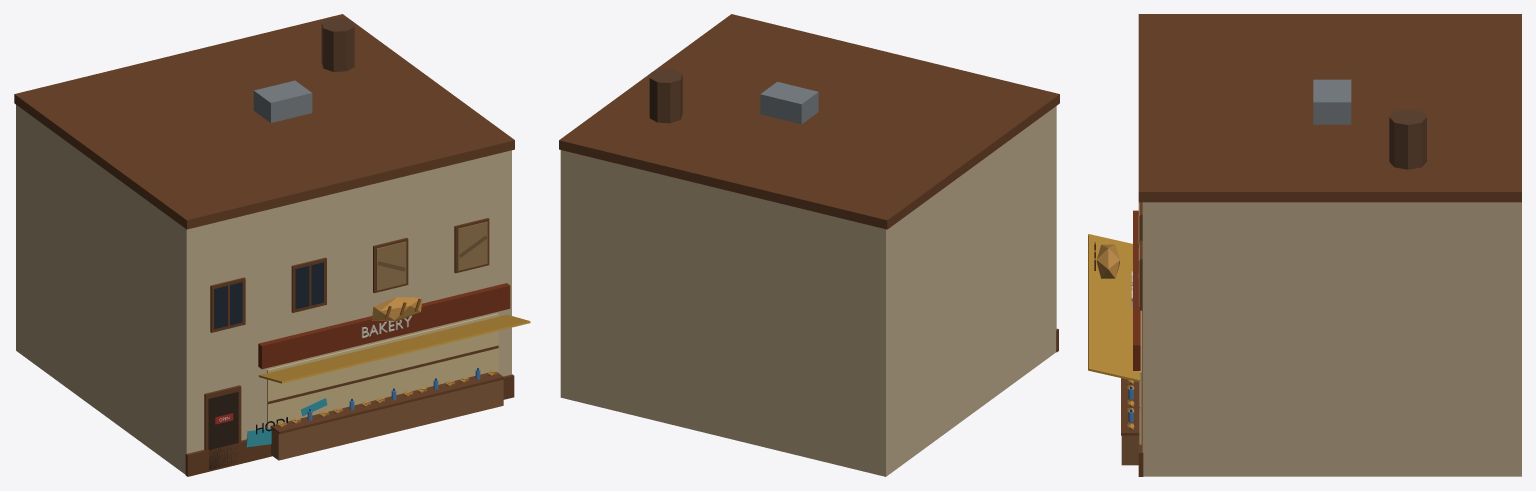
File: building_bakery.glb
3 renders of one model, left to right at view 1: azimuth 30°, elevation 25°; view 2: azimuth 150°, elevation 25°; view 3: azimuth 270°, elevation 25°, orthographic. The views are drawn at different scales.
Visible parts, largest first — view 1: building_bakery; view 2: building_bakery; view 3: building_bakery.
Part boxes in pixels (box(x1,y1,x2,y2)): building_bakery: box(14, 14, 530, 476); building_bakery: box(559, 14, 1059, 476); building_bakery: box(1088, 14, 1521, 476).
Size of what is drawn, in the model's own units: 11.1 by 9.6 by 11.44.
